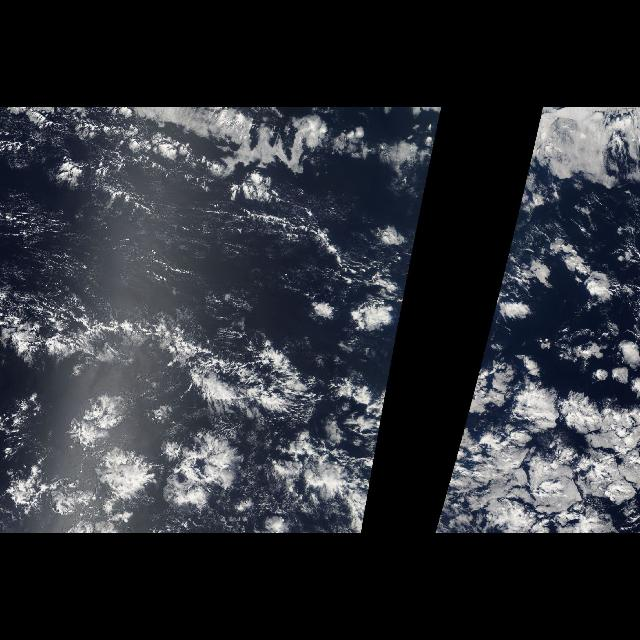Fish: (7, 292, 316, 438)
Flower: (456, 212, 638, 532), (2, 375, 344, 533)
Sugar: (7, 188, 265, 286)
